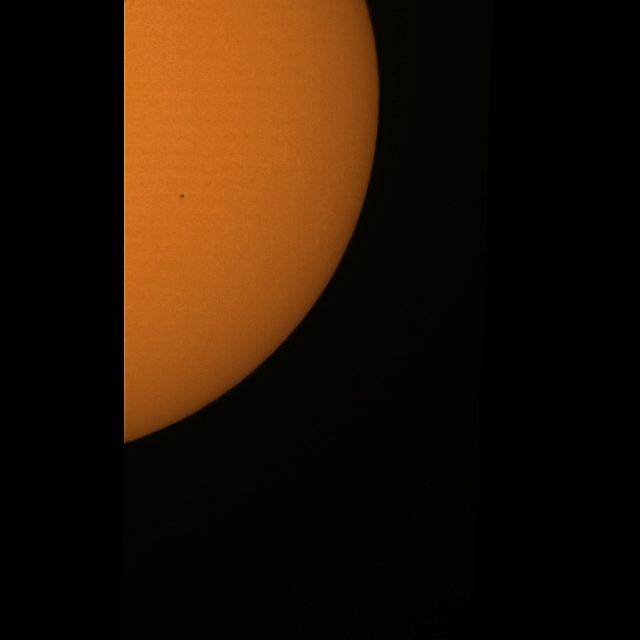sunspot: (178, 192, 186, 200)
